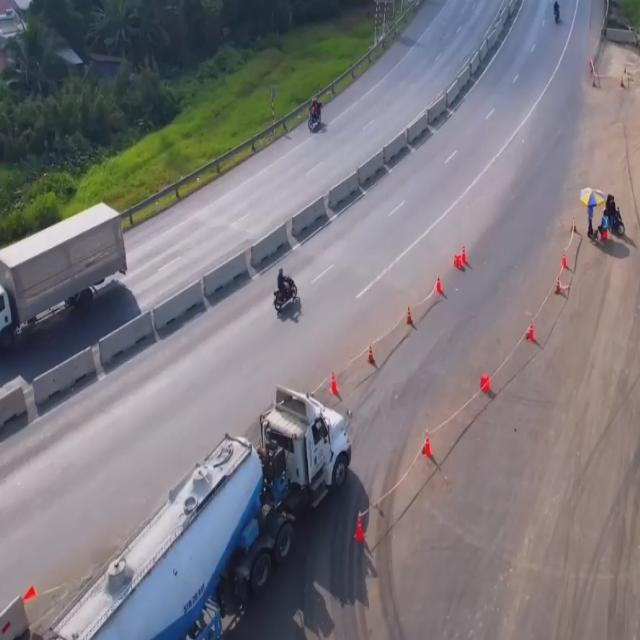motorbike: (272, 265, 302, 324), (309, 92, 324, 134), (551, 0, 564, 27)
truck: (56, 385, 349, 640), (0, 211, 127, 357)
